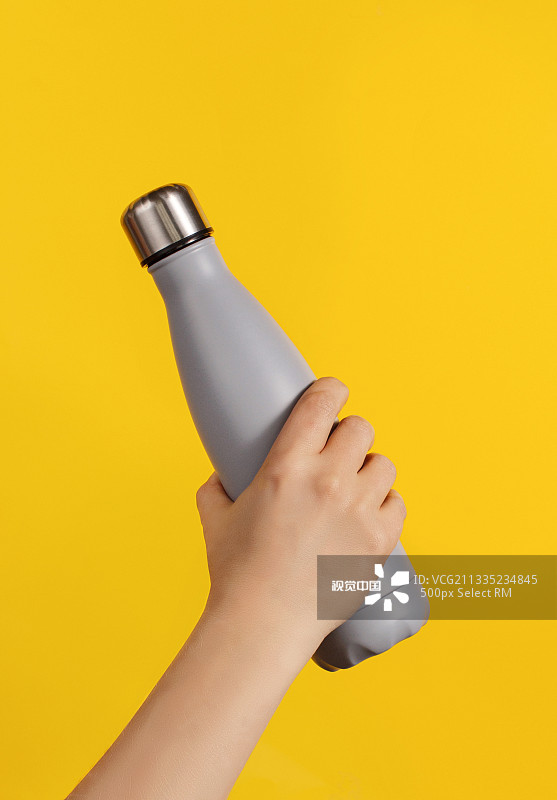no-phone: (174, 347, 400, 664)
